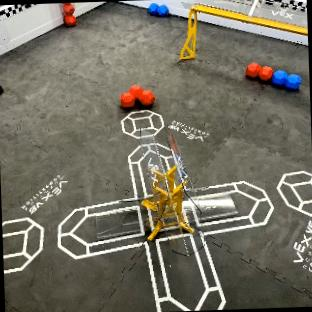Goal: (180, 0, 307, 60)
Med_goal: (141, 134, 193, 240)
V5_BLUE: (273, 70, 301, 89), (148, 4, 168, 15)
V5_RED: (120, 85, 154, 107), (246, 63, 273, 80)
